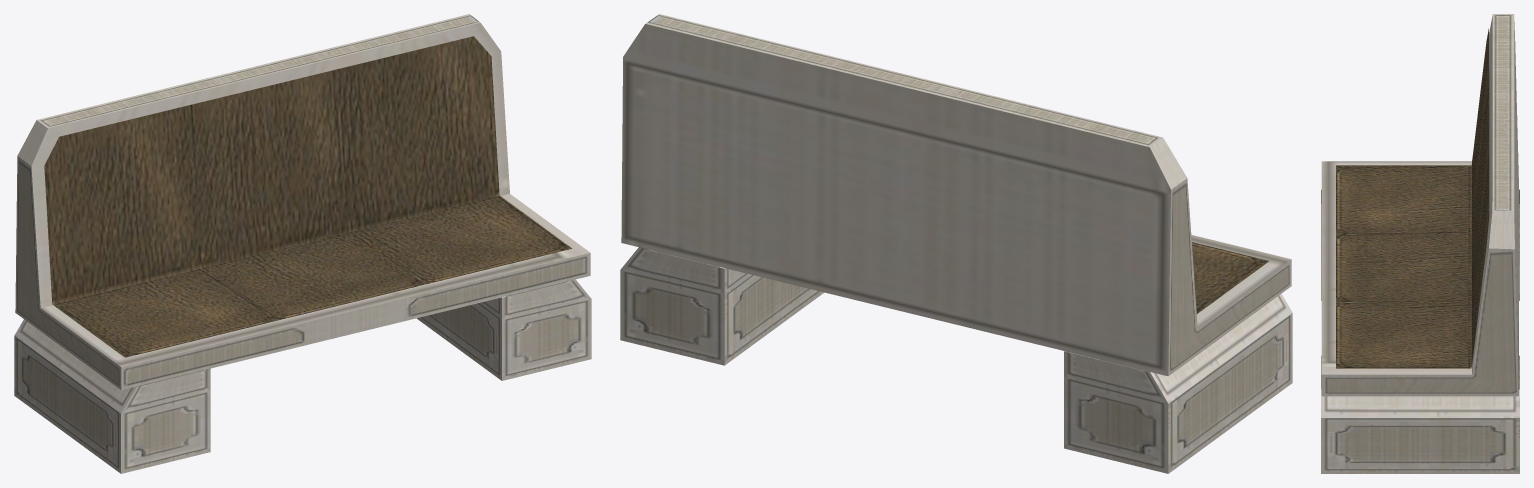
The model's file is frn_all_eleg_couch_s01_l1.fbx.
The picture shows the model from 3 angles, left to right: view 1: azimuth 30°, elevation 25°; view 2: azimuth 150°, elevation 25°; view 3: azimuth 270°, elevation 25°; orthographic projection. The views are drawn at different scales.
Visible parts, largest first — view 1: mesh_node; view 2: mesh_node; view 3: mesh_node.
Boxes of the visible parts, x1,y1,x2,y2 form: mesh_node: [14, 14, 591, 473]; mesh_node: [620, 14, 1292, 473]; mesh_node: [1321, 14, 1519, 473].
Bounding box in the file's own units: 1.8 × 0.9998 × 0.7062.
Materials: 1 (1 with a texture image).
